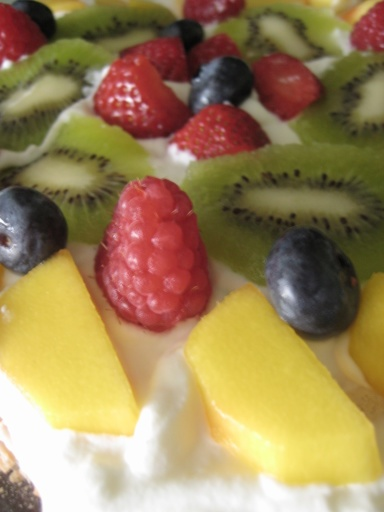background: (0, 0, 230, 410)
